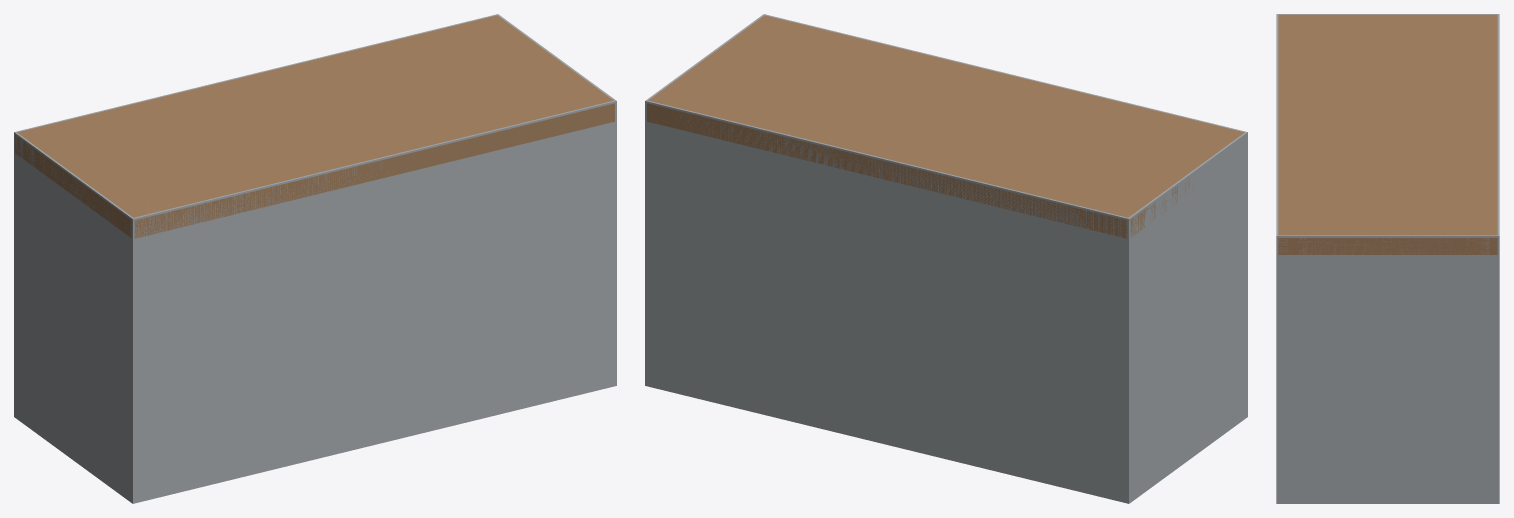
File: workbench.glb
The picture shows the model from 3 angles, left to right: view 1: azimuth 30°, elevation 25°; view 2: azimuth 150°, elevation 25°; view 3: azimuth 270°, elevation 25°; orthographic projection. The views are drawn at different scales.
Visible parts, largest first — view 1: propkit_workbench_COL, propkit_workbench_001_top; view 2: propkit_workbench_COL, propkit_workbench_001_top; view 3: propkit_workbench_COL, propkit_workbench_001_top.
Boxes of the visible parts, x1,y1,x2,y2 form: propkit_workbench_COL: (14,14,616,503); propkit_workbench_001_top: (15,15,614,238); propkit_workbench_COL: (645,14,1247,503); propkit_workbench_001_top: (647,15,1244,238); propkit_workbench_COL: (1276,14,1499,503); propkit_workbench_001_top: (1278,14,1497,254).
Size of the model in its own units: 1.6 by 0.9 by 0.68.
